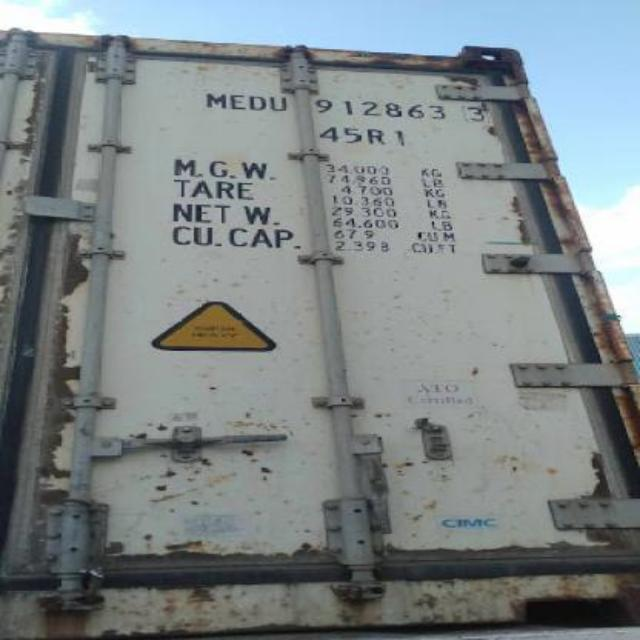1: (340, 94, 360, 114)
2: (361, 92, 382, 120)
3: (458, 104, 486, 124), (428, 99, 446, 125)
6: (404, 98, 426, 122)
8: (380, 97, 406, 121)
9: (316, 93, 334, 117)
D: (250, 90, 266, 116)
E: (226, 89, 250, 113)
M: (198, 87, 226, 113)
U: (262, 91, 290, 115)
